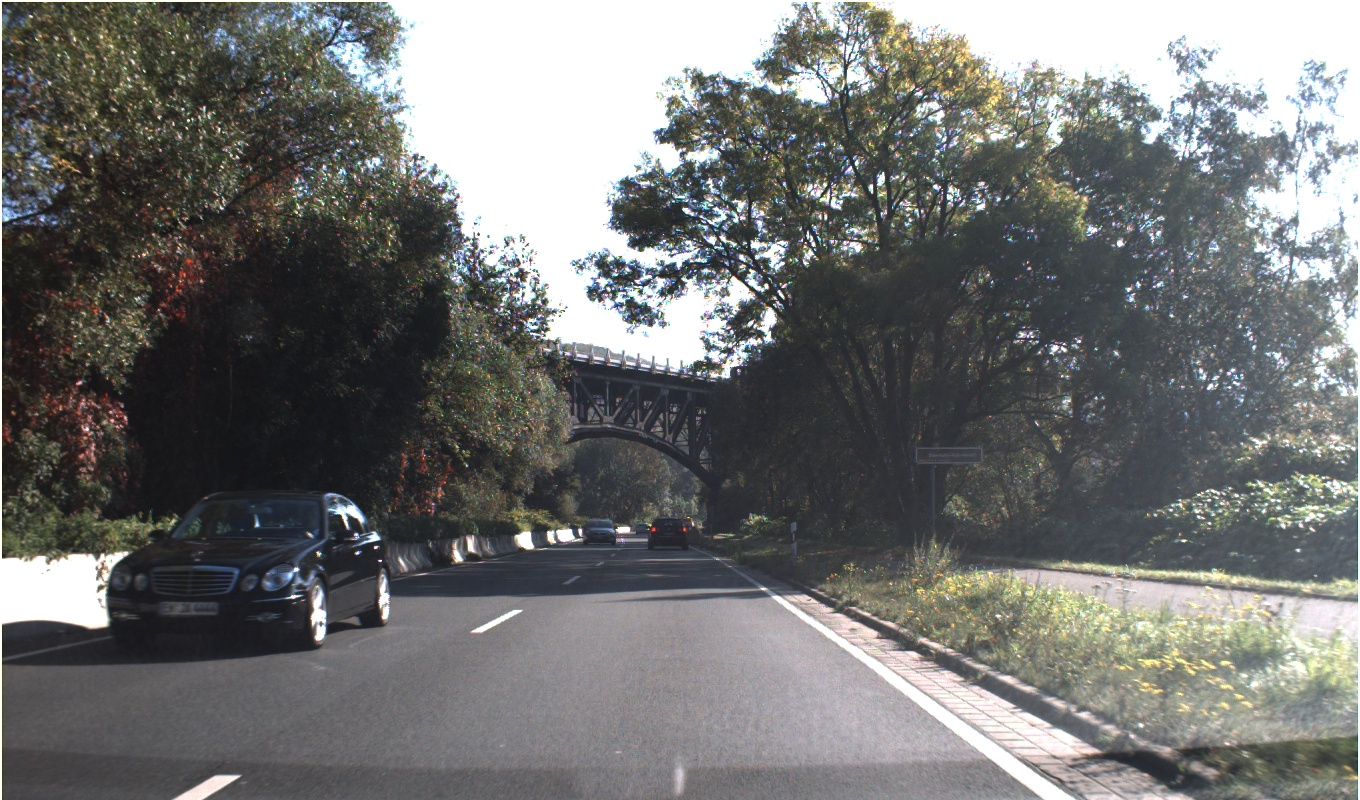car: (102, 478, 398, 671), (654, 513, 699, 567), (583, 513, 620, 568), (629, 517, 657, 545), (683, 507, 700, 534)
